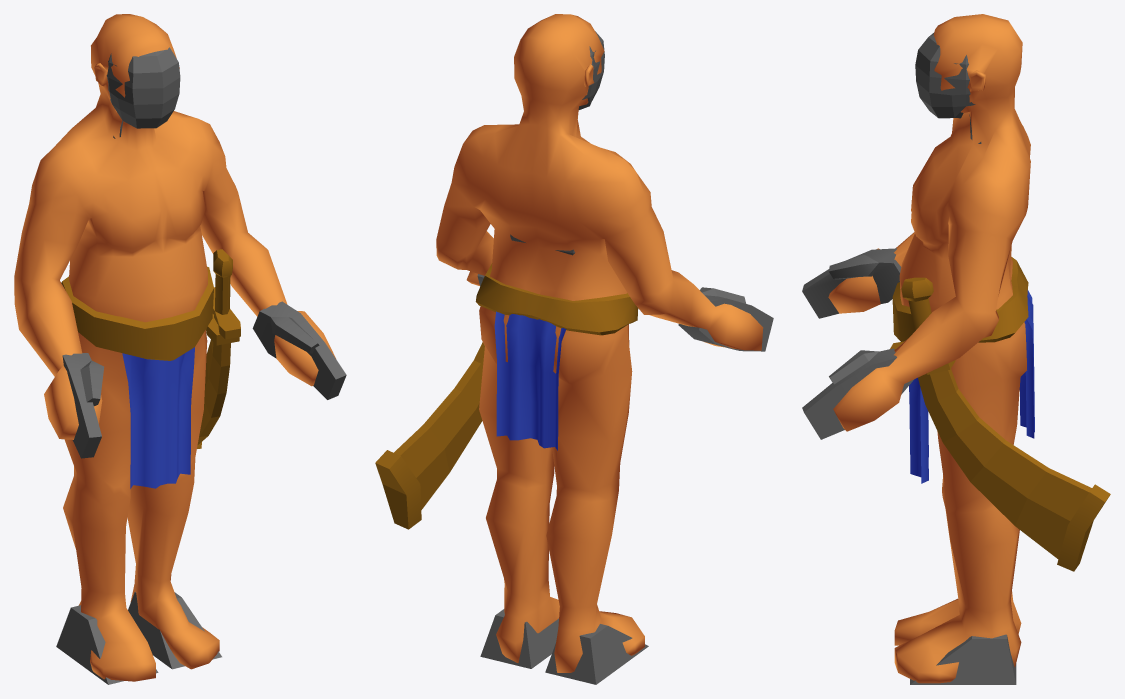
The model's file is DickerMann_A_009_Rig_fertig_Ungeskinnt.dae.
3 renders of one model, left to right at view 1: azimuth 30°, elevation 25°; view 2: azimuth 150°, elevation 25°; view 3: azimuth 270°, elevation 25°, orthographic.
Visible parts, largest first — view 1: DickerMann, Lendenschurz, Guertel, mk_head, Saebel, mk_hand_left, mk_hand_right, mk_foot_right, mk_foot_left; view 2: DickerMann, Saebel, Lendenschurz, Guertel, mk_foot_right, mk_foot_left, mk_hand_right; view 3: DickerMann, Saebel, Lendenschurz, mk_hand_right, mk_foot_left, mk_hand_left, mk_head, Guertel.
Boxes of the visible parts, x1,y1,x2,y2 form: DickerMann: (14, 14, 335, 681); Lendenschurz: (122, 347, 194, 488); Guertel: (61, 266, 213, 360); mk_head: (106, 47, 180, 128); Saebel: (197, 249, 240, 448); mk_hand_left: (252, 301, 346, 399); mk_hand_right: (62, 353, 104, 458); mk_foot_right: (56, 605, 158, 684); mk_foot_left: (128, 592, 221, 669); DickerMann: (436, 14, 763, 672); Saebel: (375, 342, 484, 529); Lendenschurz: (494, 311, 566, 450); Guertel: (475, 263, 638, 335); mk_foot_right: (545, 624, 648, 684); mk_foot_left: (480, 609, 558, 668); mk_hand_right: (678, 287, 773, 351); DickerMann: (828, 14, 1030, 683); Saebel: (890, 277, 1110, 571); Lendenschurz: (909, 290, 1034, 483); mk_hand_right: (802, 248, 901, 318); mk_foot_left: (910, 634, 1016, 684); mk_hand_left: (802, 348, 913, 439); mk_head: (915, 32, 975, 118); Guertel: (892, 257, 1028, 342).
Size of the model in its own units: 3.76 by 8.18 by 3.59.
